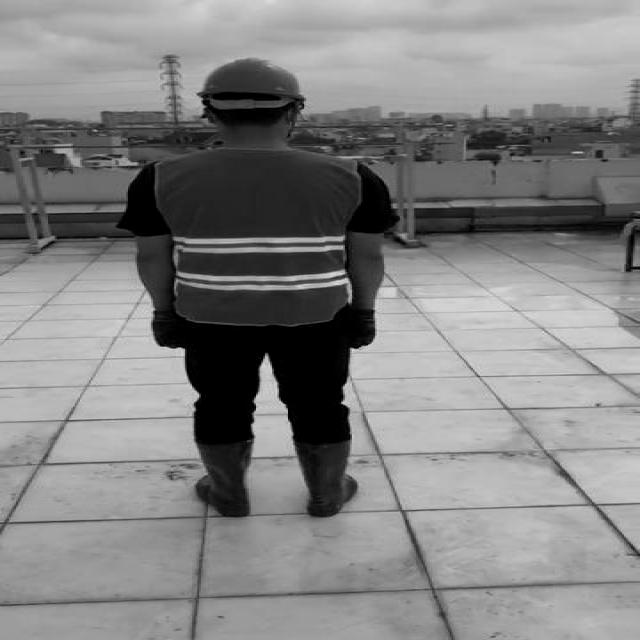boots: (291, 437, 361, 516), (190, 440, 252, 519)
hand_glove: (345, 308, 377, 349), (153, 308, 181, 350)
head_helmet: (200, 55, 305, 100)
person: (114, 56, 404, 526)
vest: (154, 150, 353, 323)
